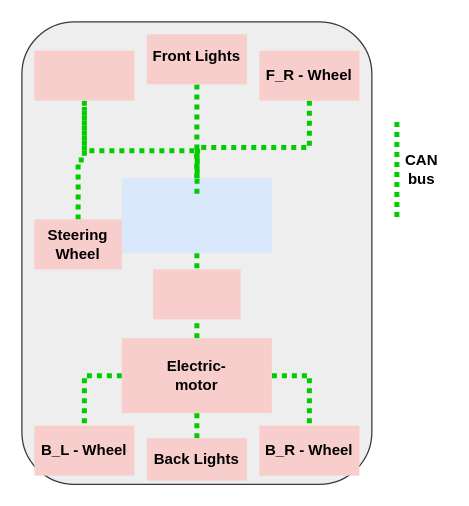
Image size: 469x506. Some labels were removed from this diagram. The centre of each missing label's shape, as x and y in pixels:
Body Control: the point at 196,294
Central Control: the point at 196,215
F_L - Wheel: the point at 84,75
